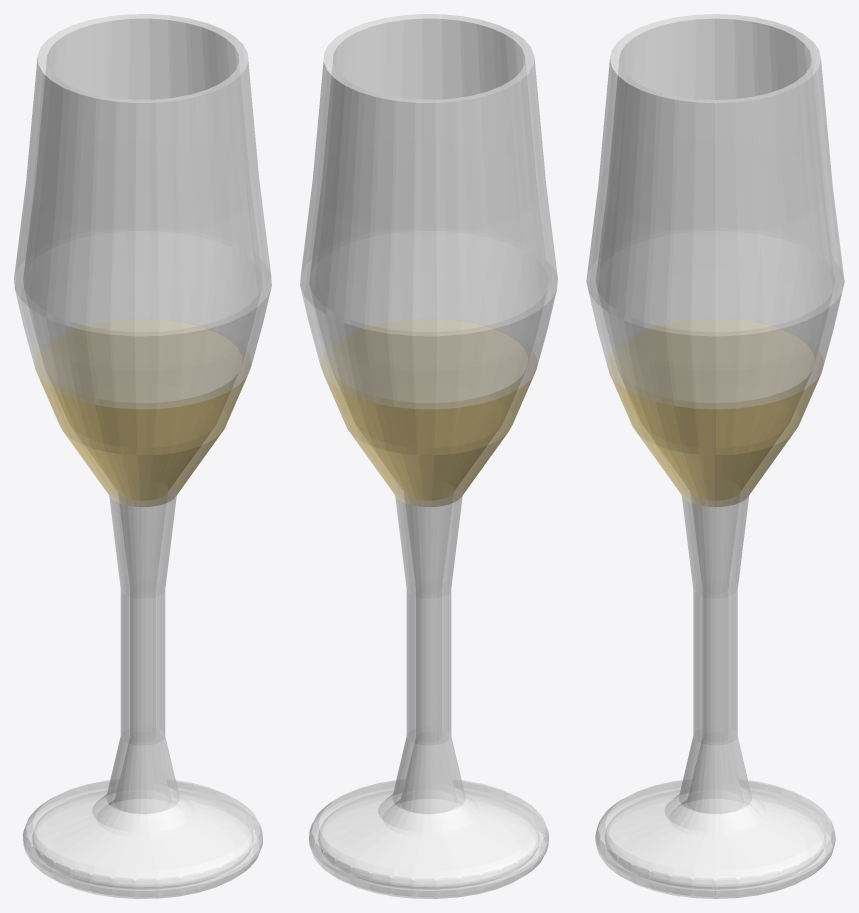
File: champagne.obj
3 renders of one model, left to right at view 1: azimuth 30°, elevation 25°; view 2: azimuth 150°, elevation 25°; view 3: azimuth 270°, elevation 25°, orthographic.
Parts seen in each view (by area): view 1: Cylinder; view 2: Cylinder; view 3: Cylinder.
Part boxes in pixels (x1,y1,x2,y2): Cylinder: [14, 14, 271, 898]; Cylinder: [300, 14, 557, 898]; Cylinder: [586, 14, 844, 898].
Bounding box in the file's own units: 0.2277 × 0.7763 × 0.2277.
2 materials, 2 textured.
